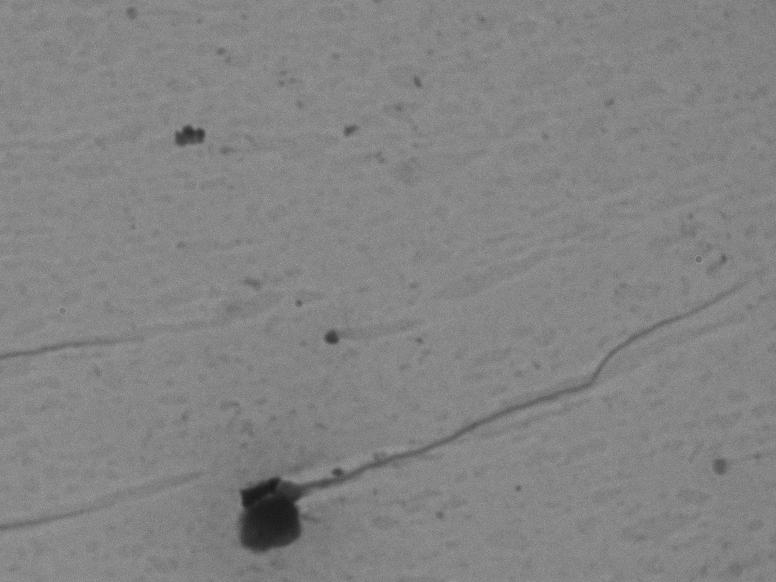Abnormal: (208, 256, 744, 568)
